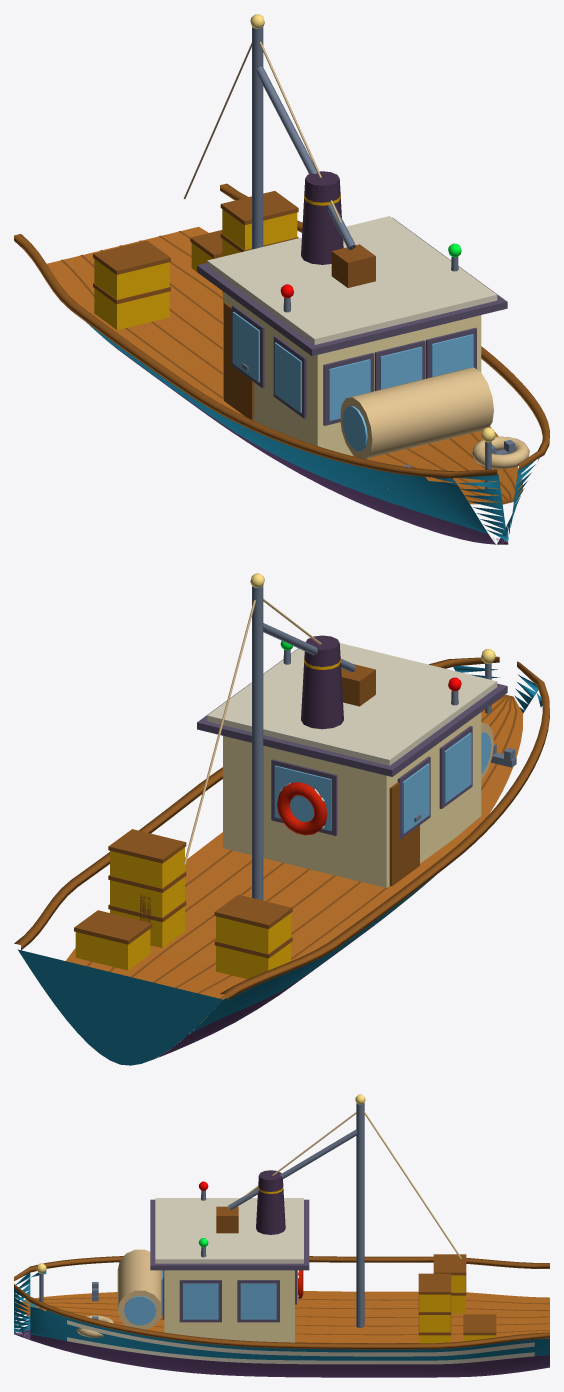
File: bateau-chalutier.glb
3 views of the same model, one above another, from view 1: azimuth 30°, elevation 25°; view 2: azimuth 150°, elevation 25°; view 3: azimuth 270°, elevation 25° (orthographic). The views are drawn at different scales.
Visible parts, largest first — view 1: cabine__gris_clair, pont__orange, pont__orange_pale, coque__cyan_fonce, cabine__bleu, cabine__violet_fonce, cabine__jaune_pale, coque__orange_fonce, pont__orange_fonce, pont__jaune, mat__bleu_fonce, cheminee__violet_nuit2 (+5 smaller); view 2: pont__orange, cabine__jaune_pale, cabine__gris_clair, coque__cyan_fonce, pont__jaune, pont__orange_fonce, coque__orange_fonce, cabine__violet_fonce, cabine__bleu, mat__bleu_fonce, cheminee__violet_nuit2, cabine__orange_fonce (+4 smaller); view 3: pont__orange, cabine__gris_clair, coque__violet_nuit, coque__cyan_fonce, coque__orange_fonce, cabine__jaune_pale, pont__orange_fonce, coque__blanc, cabine__violet_fonce, cabine__bleu, mat__bleu_fonce, pont__orange_pale (+5 smaller).
Boxes of the visible parts, left/top/right/bottom form: cabine__gris_clair: left=207, top=216, right=497, bottom=344; pont__orange: left=47, top=226, right=522, bottom=504; pont__orange_pale: left=340, top=367, right=529, bottom=468; coque__cyan_fonce: left=86, top=322, right=539, bottom=541; cabine__bleu: left=232, top=312, right=473, bottom=420; cabine__violet_fonce: left=197, top=217, right=507, bottom=425; cabine__jaune_pale: left=223, top=291, right=481, bottom=455; coque__orange_fonce: left=14, top=183, right=549, bottom=478; pont__orange_fonce: left=61, top=191, right=516, bottom=504; pont__jaune: left=94, top=209, right=297, bottom=330; mat__bleu_fonce: left=252, top=27, right=355, bottom=249; cheminee__violet_nuit2: left=301, top=171, right=343, bottom=264; pont__orange: left=66, top=697, right=522, bottom=1023; cabine__jaune_pale: left=223, top=712, right=481, bottom=887; cabine__gris_clair: left=207, top=643, right=497, bottom=765; coque__cyan_fonce: left=17, top=666, right=542, bottom=1065; pont__jaune: left=75, top=847, right=291, bottom=979; pont__orange_fonce: left=74, top=694, right=517, bottom=998; coque__orange_fonce: left=14, top=656, right=549, bottom=1000; cabine__violet_fonce: left=197, top=648, right=507, bottom=839; cabine__bleu: left=274, top=732, right=471, bottom=833; mat__bleu_fonce: left=252, top=586, right=355, bottom=900; cheminee__violet_nuit2: left=301, top=635, right=343, bottom=729; cabine__orange_fonce: left=389, top=782, right=419, bottom=886; pont__orange: left=18, top=1291, right=549, bottom=1342; cabine__gris_clair: left=155, top=1198, right=303, bottom=1263; coque__violet_nuit: left=14, top=1329, right=549, bottom=1377; coque__cyan_fonce: left=14, top=1271, right=549, bottom=1360; coque__orange_fonce: left=14, top=1256, right=549, bottom=1349; cabine__jaune_pale: left=164, top=1270, right=294, bottom=1342; pont__orange_fonce: left=15, top=1254, right=549, bottom=1343; coque__blanc: left=67, top=1320, right=534, bottom=1364; cabine__violet_fonce: left=150, top=1199, right=309, bottom=1322; cabine__bleu: left=161, top=1270, right=297, bottom=1319; mat__bleu_fonce: left=228, top=1103, right=364, bottom=1327; pont__orange_pale: left=76, top=1249, right=161, bottom=1337.
Bounding box in the file's own units: 2.83 × 4.08 × 7.18.
